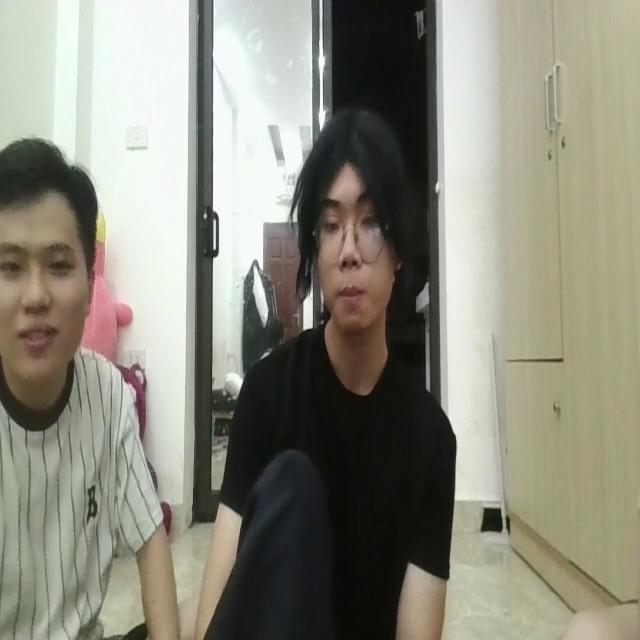extra_person: (0, 137, 182, 640)
student: (190, 95, 454, 640)
